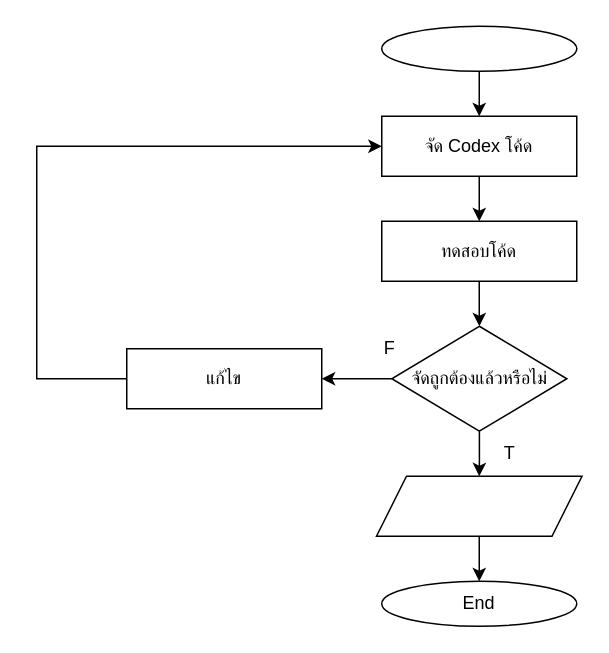
Image size: 609x653. Some labels were removed from this diagram. The centre of each missing label's shape, as x and y in pixels:
"Start" goes at point 478,48.
"แสดงผลลัพธ์" goes at point 478,505.
